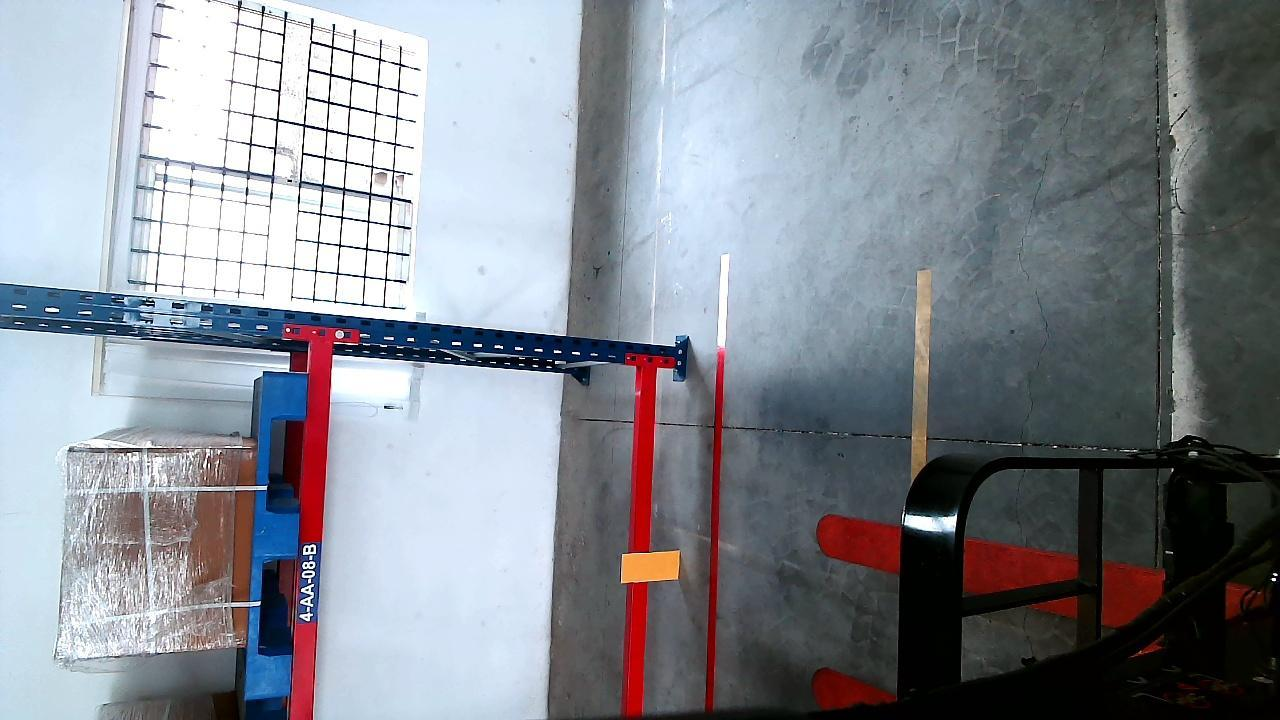red_line: (700, 255, 730, 720)
yellow_line: (909, 263, 930, 474)
